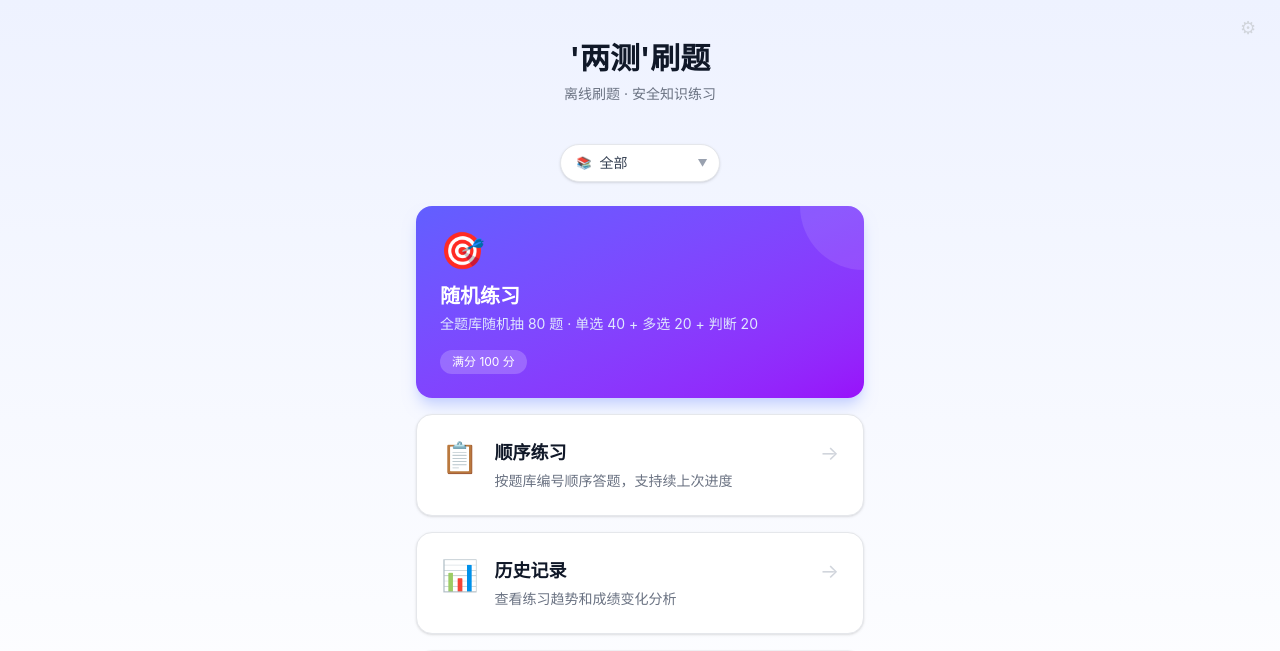
Test: 管理面板分类统计 › 无分类数据时不显示分类统计区域
Click the button named "题库管理" at point(1248, 28), box [1232, 12, 1264, 44]
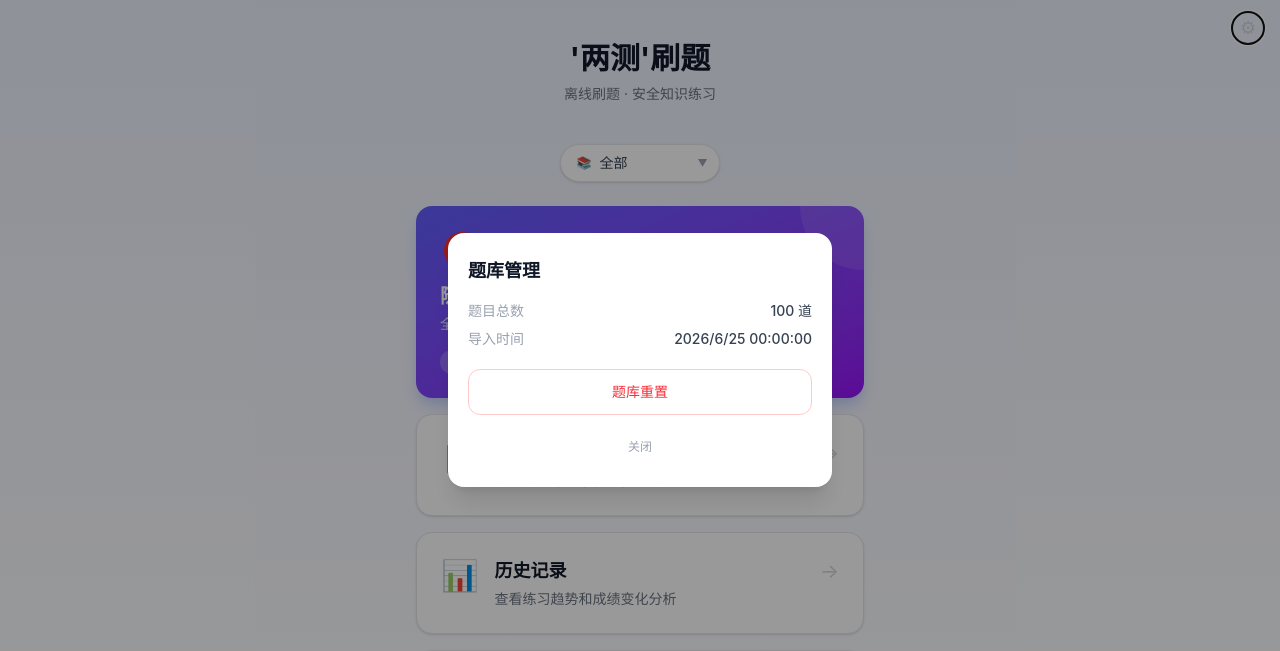
Result: the text "100 道" is shown at [770, 301, 812, 321]
